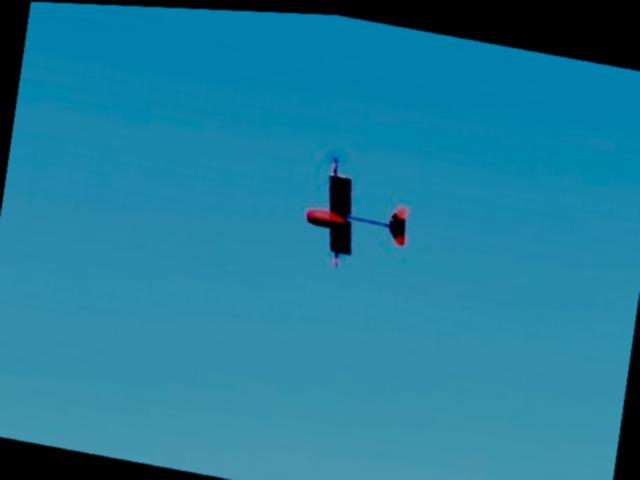uav: (284, 134, 422, 285)
